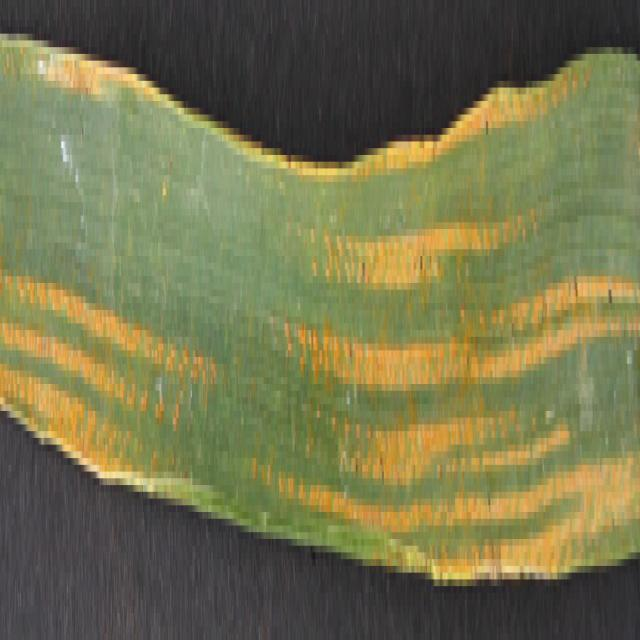leaf rust: (248, 68, 640, 600), (1, 7, 218, 579)
